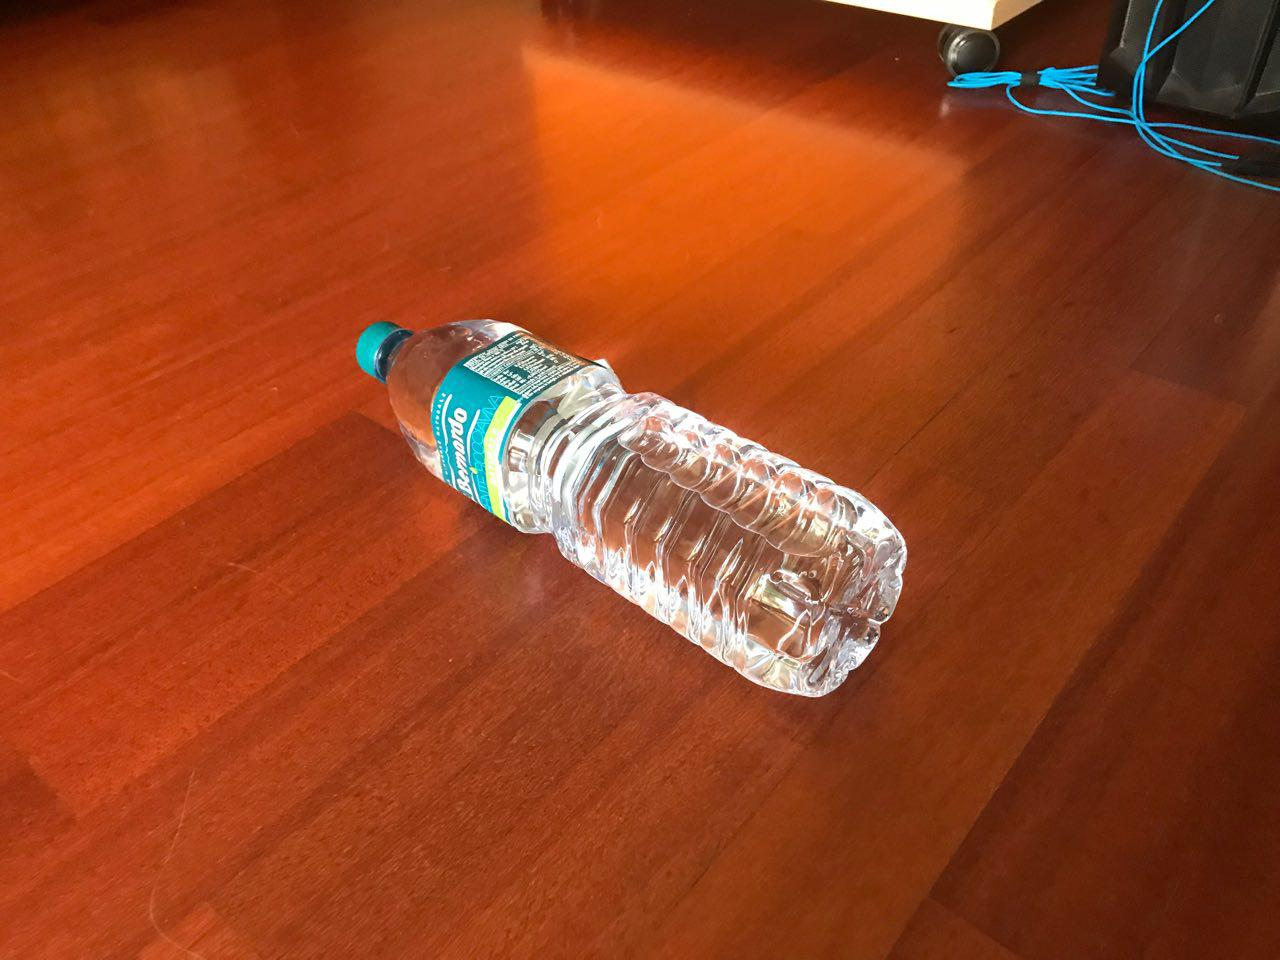san_bernardo: (354, 314, 909, 700)
